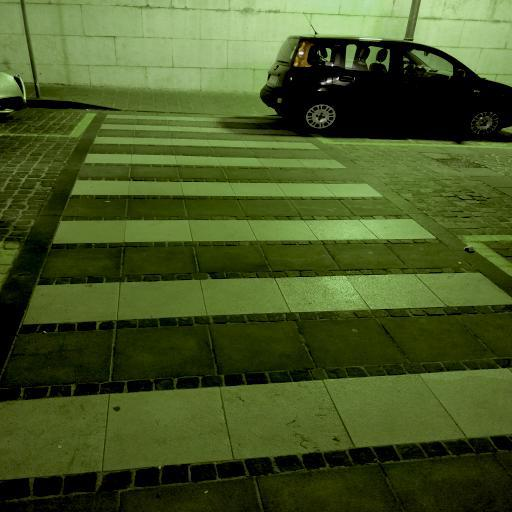crosswalk: (42, 174, 450, 256), (86, 120, 328, 152)
